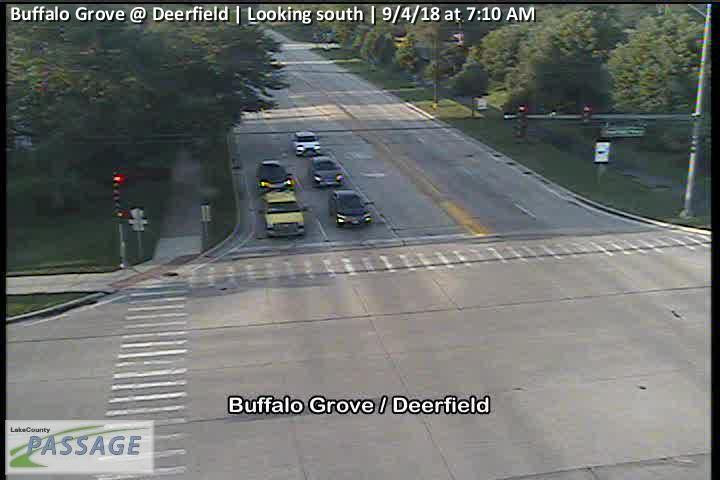SUV: (262, 191, 305, 238)
Sedan: (329, 190, 371, 226), (256, 160, 296, 191), (309, 157, 344, 187), (293, 130, 320, 155)
